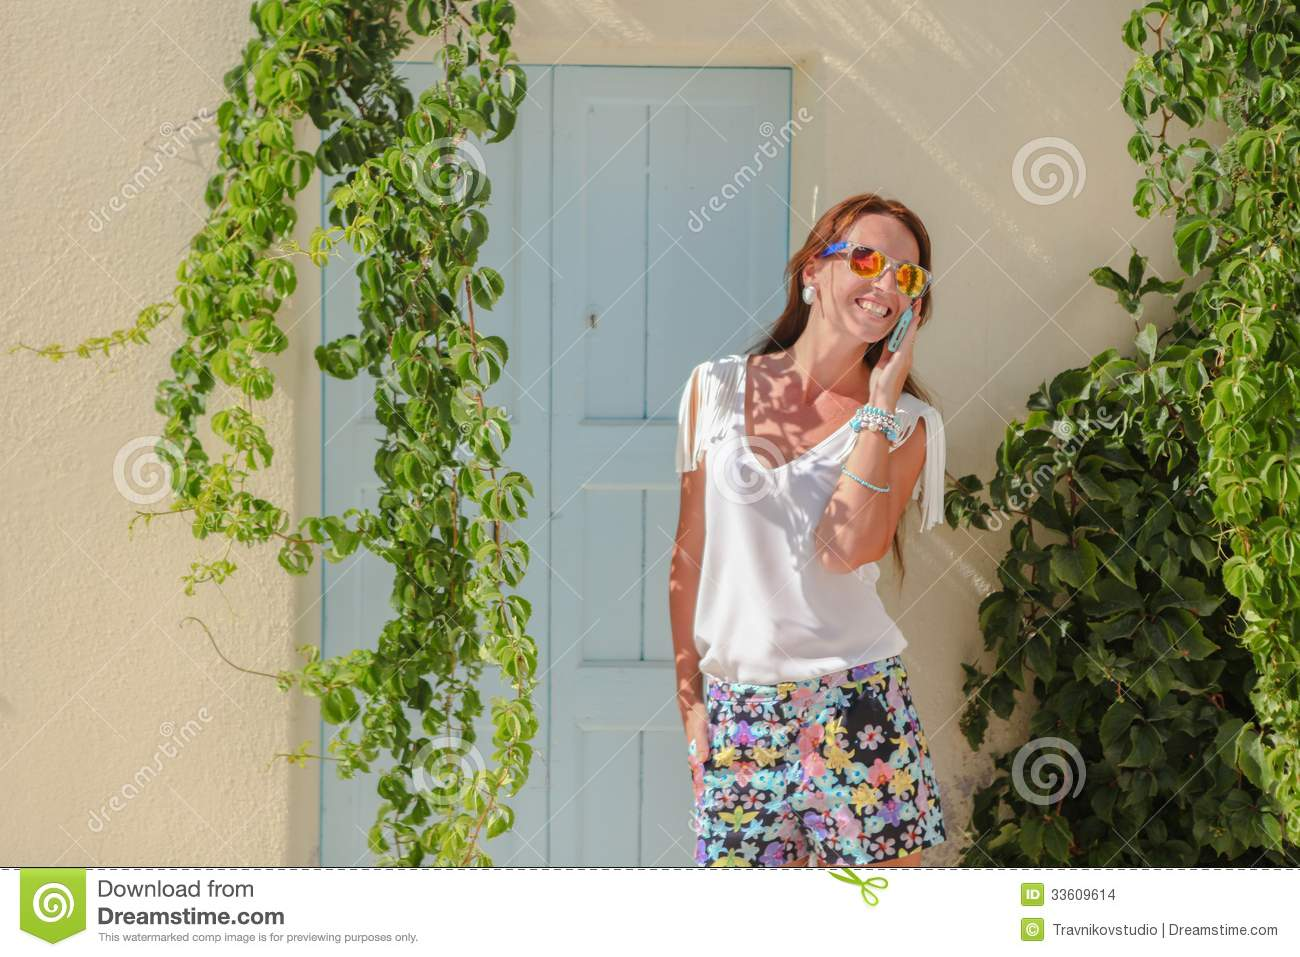phone: (888, 302, 916, 354)
talk: (839, 240, 924, 410)
